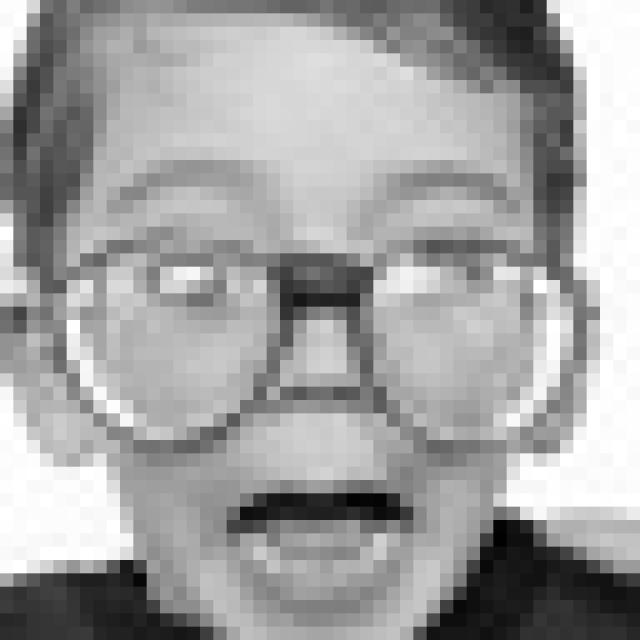fear: (103, 158, 518, 625)
